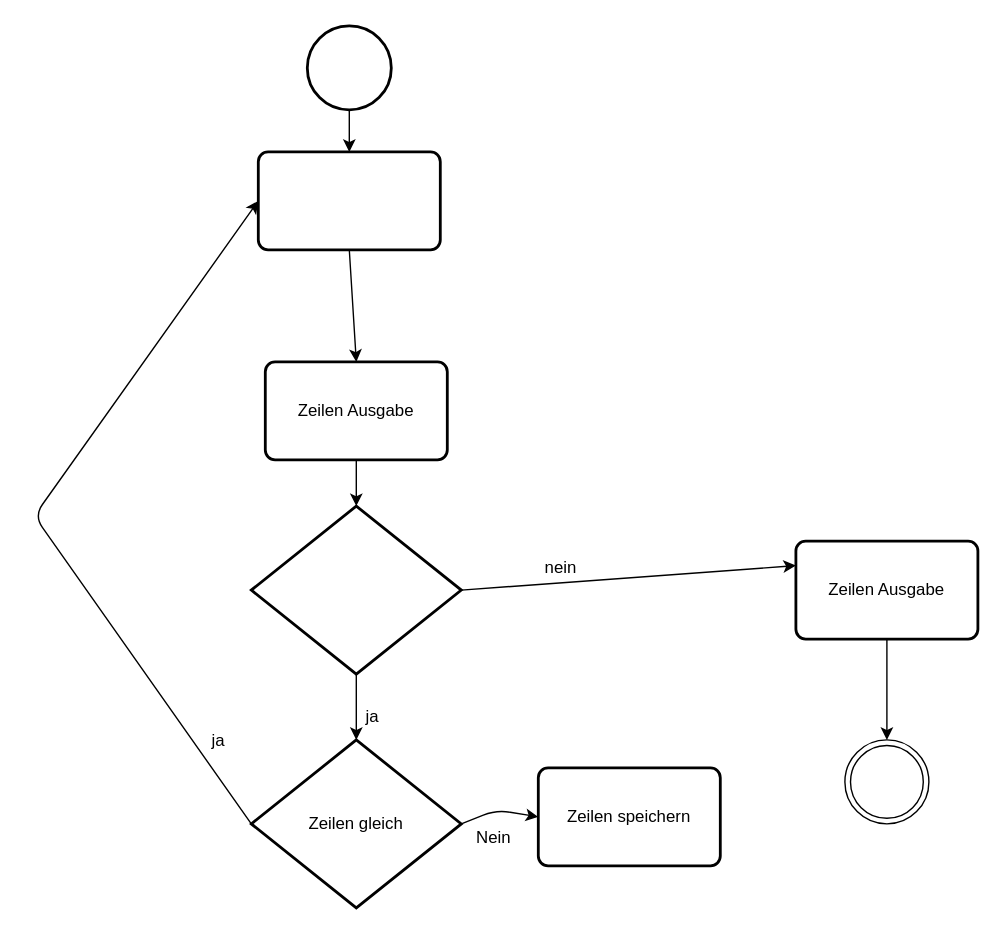
This 1004x932 diagram has some shape labels left out. The shapes that lost their labels are listed below. From the top down, each one's centre as x and y in pixels, then its label:
(x=348, y=200): Aufruf mit 2 Parameter
(x=355, y=589): Zeilen vorhanden
